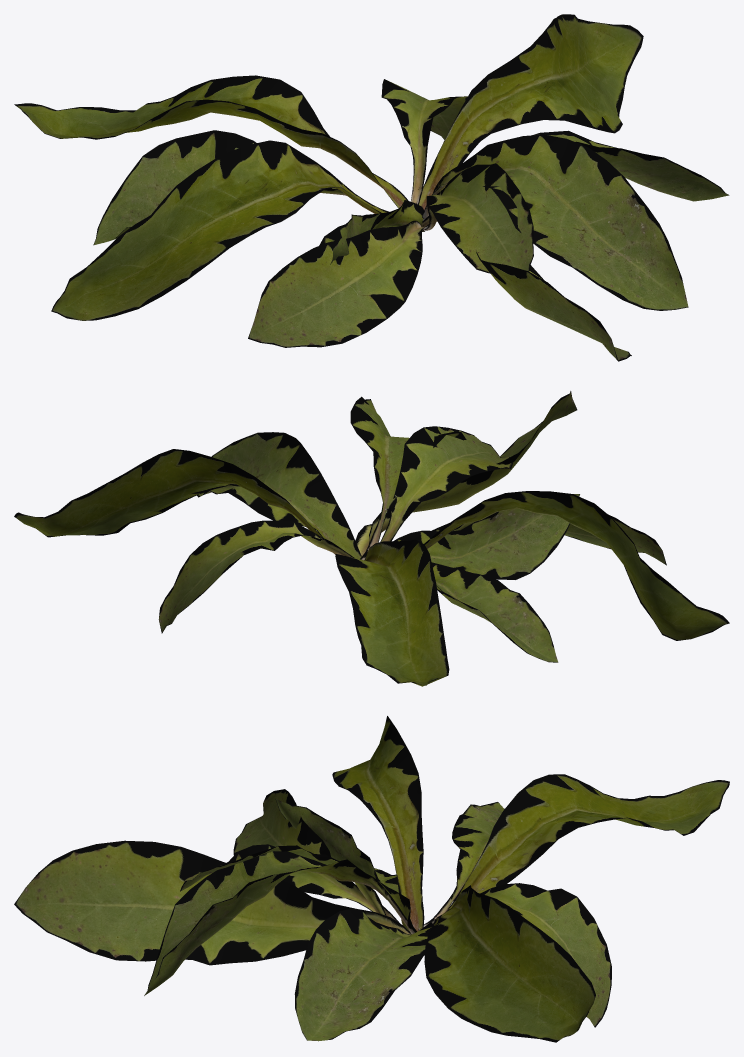
Rendered from Planta_10.glb.
3 renders of one model, top to bottom at view 1: azimuth 30°, elevation 25°; view 2: azimuth 150°, elevation 25°; view 3: azimuth 270°, elevation 25°, orthographic. The views are drawn at different scales.
Visible parts, largest first — view 1: Planta 10; view 2: Planta 10; view 3: Planta 10.
Boxes of the visible parts, box(x1,y1,x2,y2) form: Planta 10: box(14, 14, 729, 361); Planta 10: box(14, 391, 729, 686); Planta 10: box(14, 716, 729, 1042).
Bounding box in the file's own units: 0.385 × 0.0855 × 0.3695.
1 material, 1 textured.
